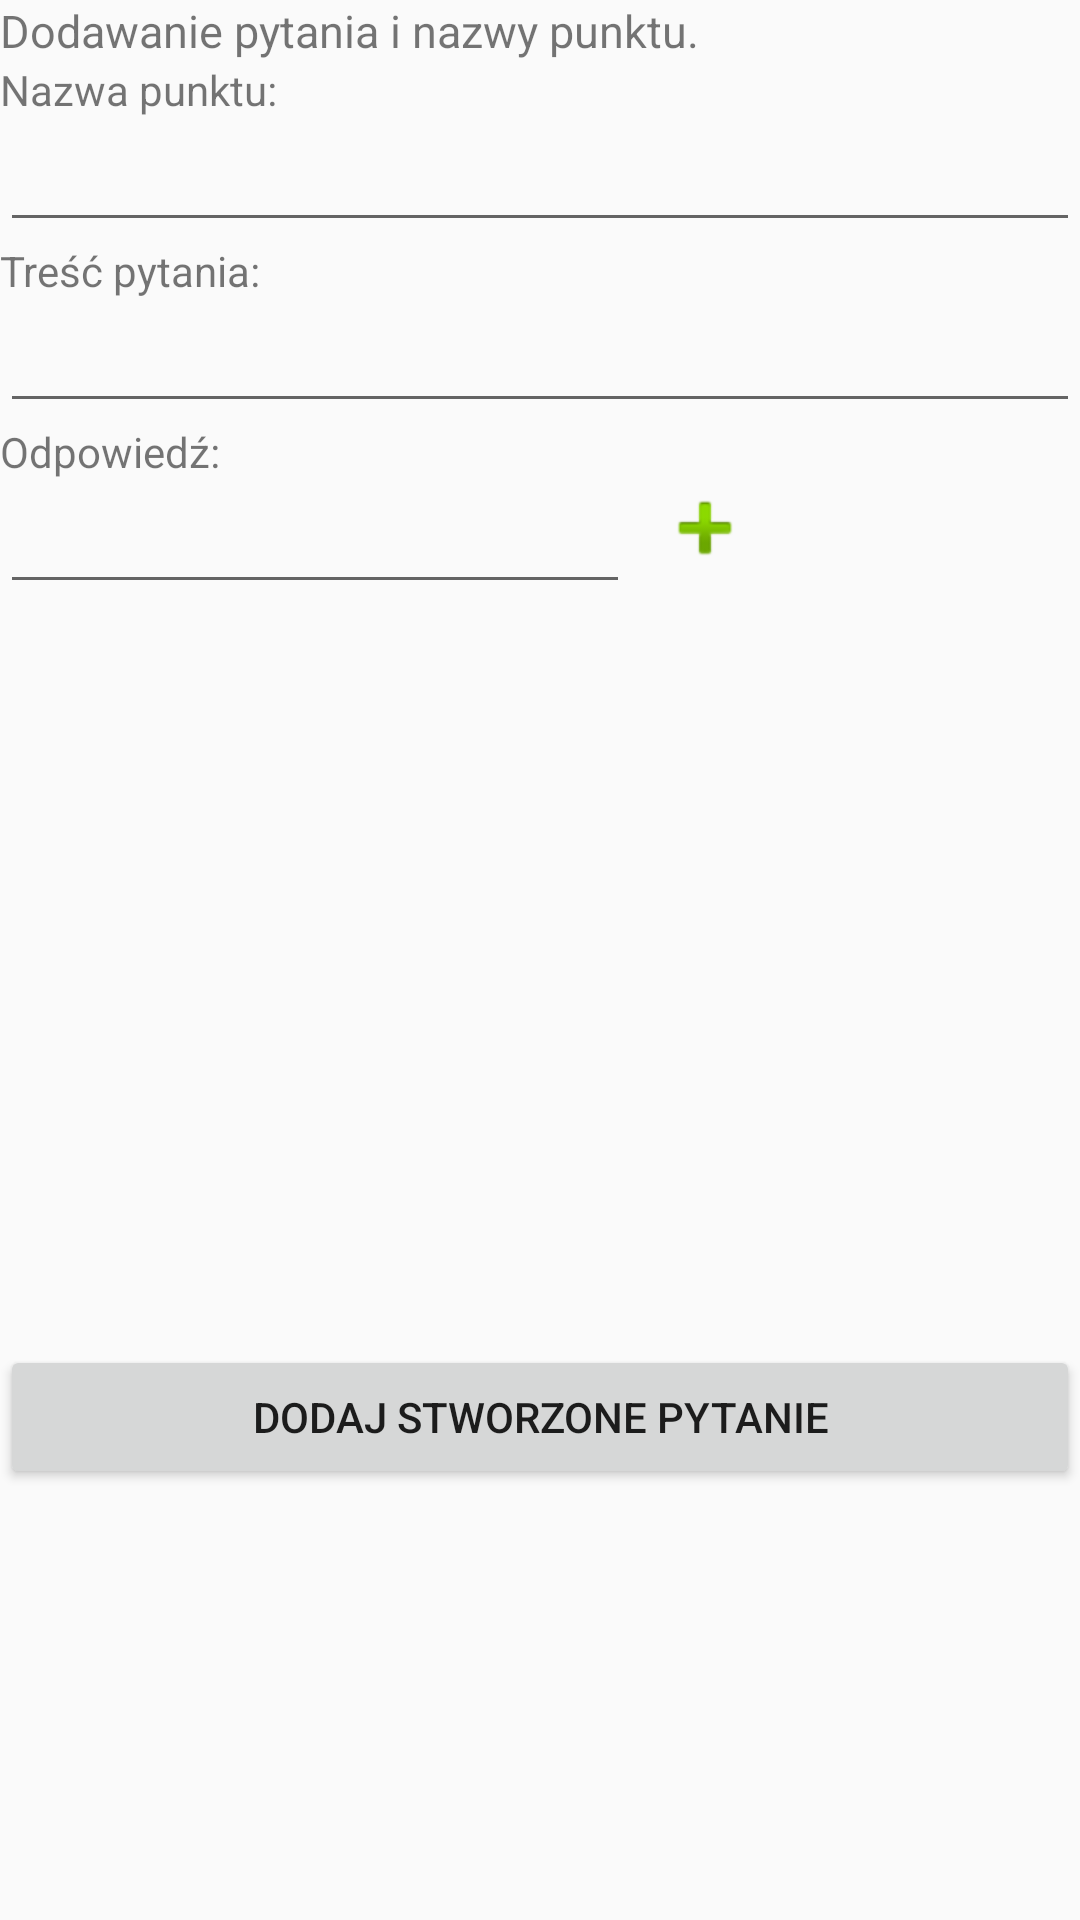

Locate icon controls on the screen. Image size 1080x1920, boxes as [x1,y1,x2,y2].
add: [678,501,732,555]
